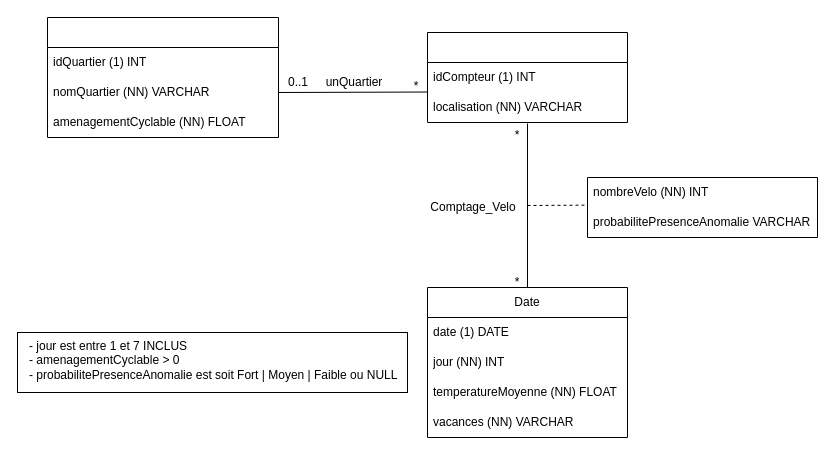
Image size: 835x455. Some labels were removed from this diagram. Here are the shapes that lost their labels. From the top down, the box of each, then its label:
(46, 16, 278, 138): Quartiers
(426, 32, 628, 122): Compteurs
